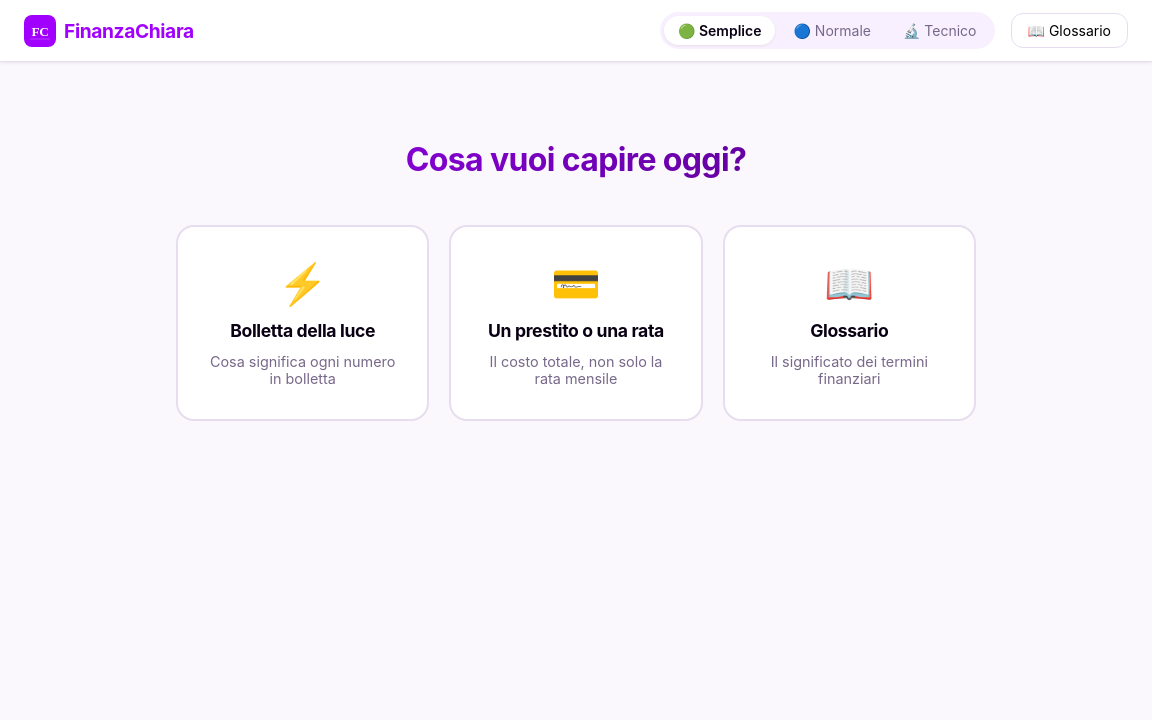
Test: Flusso utente completo › RataRoom calcola la rata di default
The width and height of the screenshot is (1152, 720).
Click the heading "Un prestito o una rata".
click(576, 331)  # box left=488, top=320, right=664, bottom=341
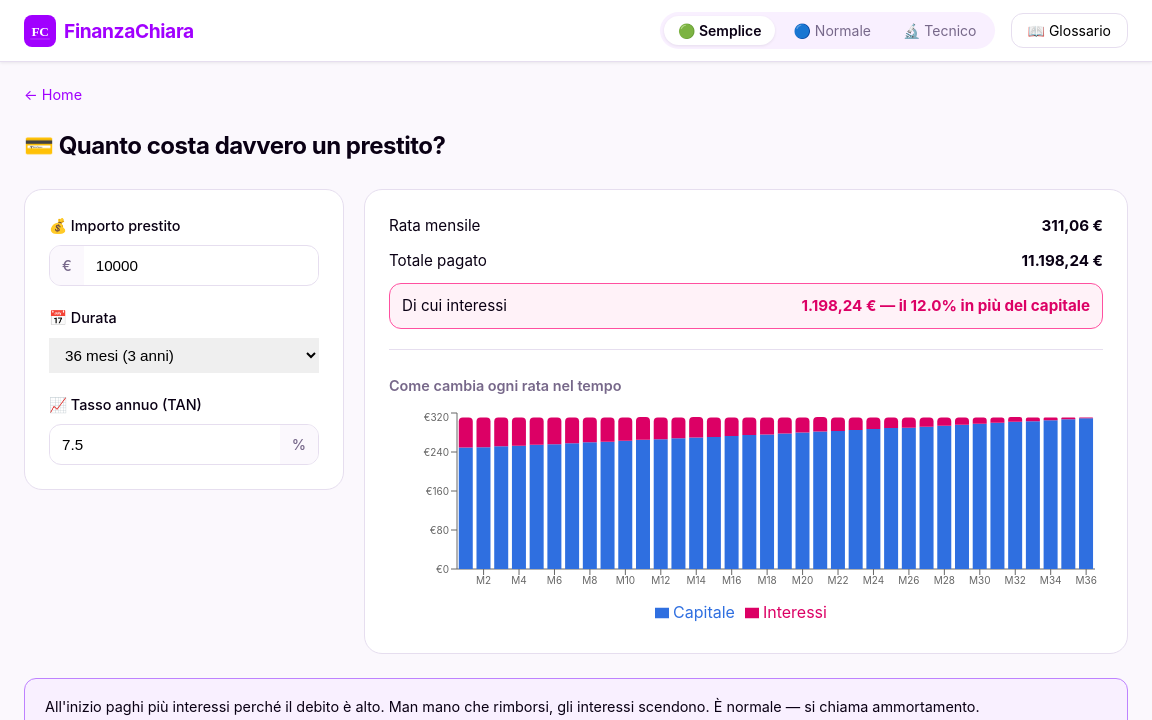
Expected: the heading "💳 Quanto costa davvero un prestito?" is shown, left=24, top=131, right=446, bottom=160
Expected: the text "311,06 €" is shown, left=1041, top=214, right=1103, bottom=239
